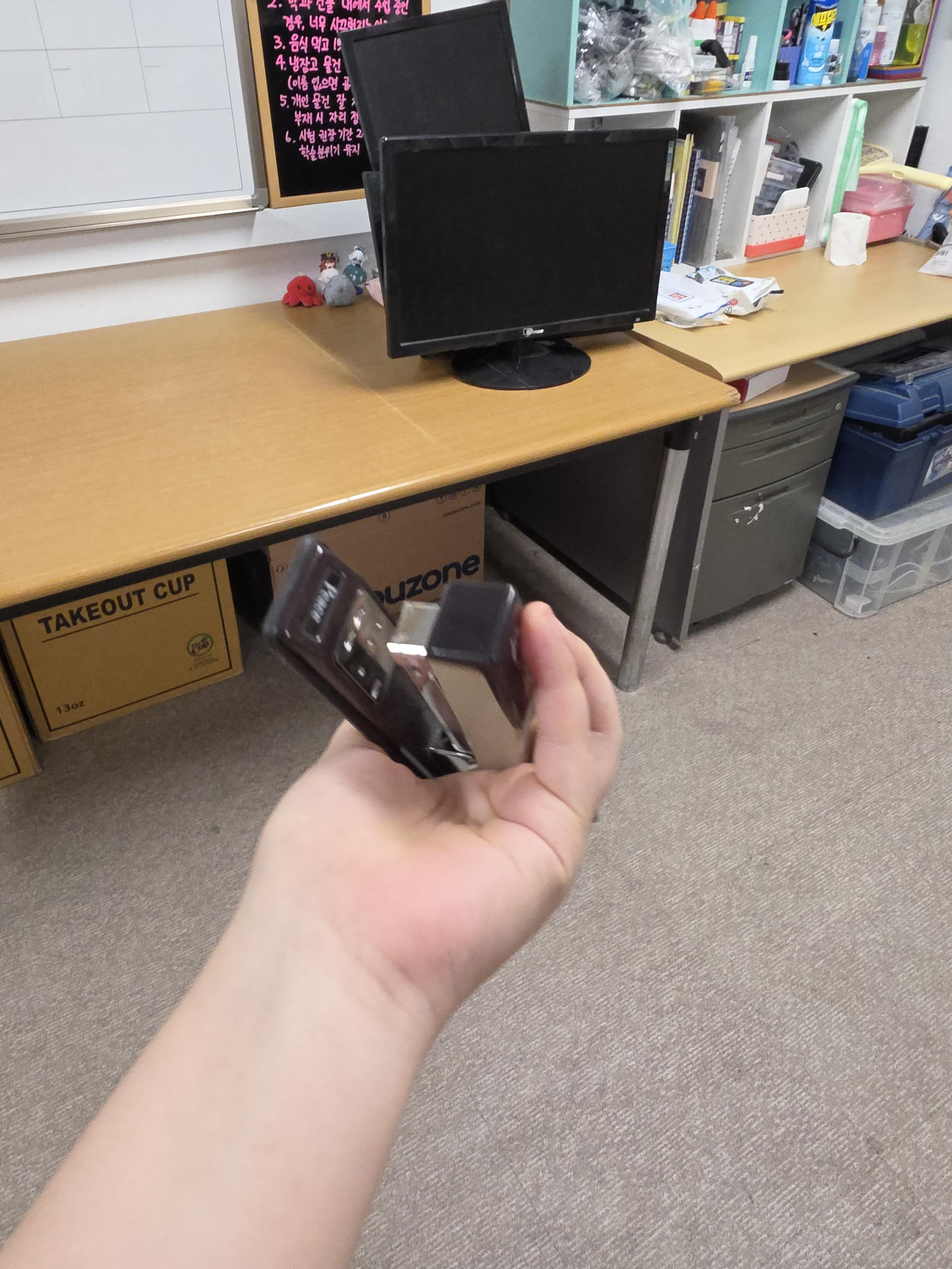stapler: (261, 536, 534, 780)
tissue: (744, 186, 811, 258), (824, 212, 871, 267)
